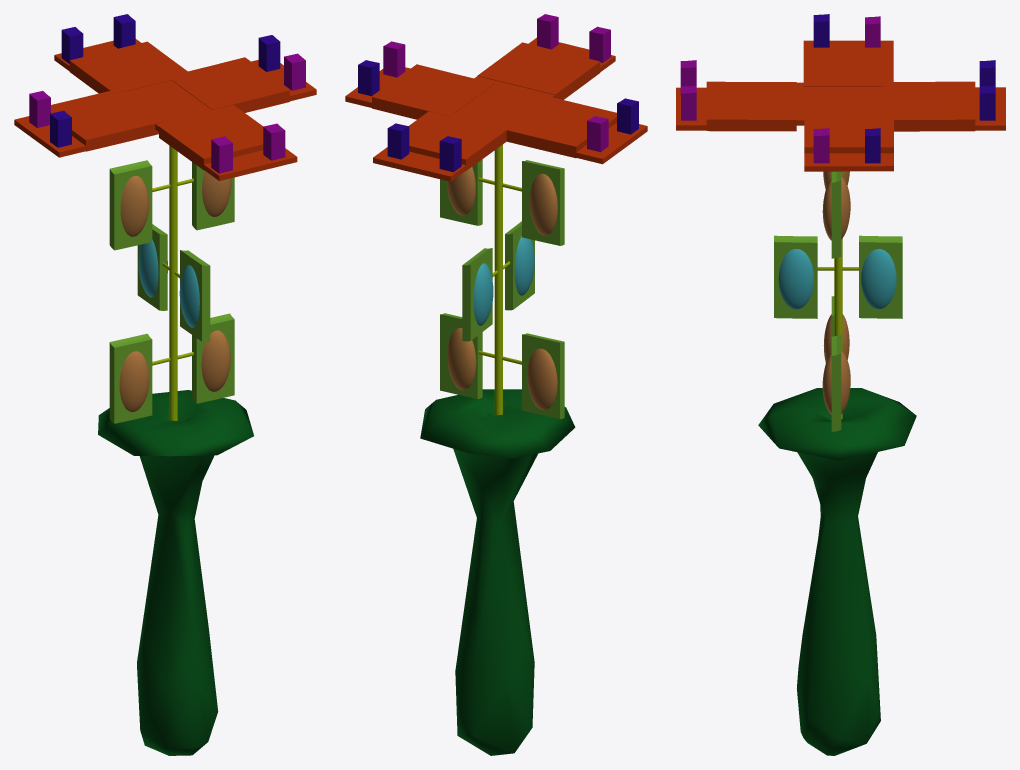
The model's file is Openflower.fbx.
3 views of the same model, side by side, from view 1: azimuth 30°, elevation 25°; view 2: azimuth 150°, elevation 25°; view 3: azimuth 270°, elevation 25° (orthographic).
Visible parts, largest first — view 1: Plantbase1, Flowerpetal3, Flowerpetal2, Flowerpetal4, Flowerpetal1, Stem, Topleaf2, Botleaf2, Botleaf1, Midleaf1, leafInsideorangeBot2, leafInsideorangeBot1 (+14 smaller); view 2: Plantbase1, Flowerpetal3, Flowerpetal4, Flowerpetal1, Flowerpetal2, Stem, Topleaf2, Botleaf2, Botleaf1, Midleaf2, leafInsideorangeBot2, leafInsideorangeTop1 (+14 smaller); view 3: Plantbase1, Flowerpetal2, Flowerpetal1, Flowerpetal4, Flowerpetal3, Midleaf2, Midleaf1, leafInsideblu, leafInsideblue, Botleaf1, Topleaf1, leafInsideorangeBot1 (+8 smaller).
Part boxes in pixels (bbox=[...]): Plantbase1: bbox=[98, 390, 253, 755]; Flowerpetal3: bbox=[14, 91, 189, 157]; Flowerpetal2: bbox=[155, 102, 297, 180]; Flowerpetal4: bbox=[146, 57, 316, 112]; Flowerpetal1: bbox=[54, 39, 187, 102]; Stem: bbox=[169, 145, 177, 420]; Topleaf2: bbox=[109, 160, 152, 250]; Botleaf2: bbox=[109, 333, 152, 423]; Botleaf1: bbox=[192, 313, 234, 403]; Midleaf1: bbox=[180, 250, 210, 341]; leafInsideorangeBot2: bbox=[119, 351, 149, 411]; leafInsideorangeBot1: bbox=[201, 330, 230, 391]; Plantbase1: bbox=[420, 389, 575, 755]; Flowerpetal3: bbox=[495, 89, 647, 164]; Flowerpetal4: bbox=[345, 64, 505, 119]; Flowerpetal1: bbox=[373, 108, 516, 181]; Flowerpetal2: bbox=[474, 37, 615, 99]; Stem: bbox=[494, 144, 502, 415]; Topleaf2: bbox=[522, 160, 564, 245]; Botleaf2: bbox=[522, 333, 564, 418]; Botleaf1: bbox=[440, 313, 482, 398]; Midleaf2: bbox=[462, 248, 492, 341]; leafInsideorangeBot2: bbox=[527, 348, 557, 410]; leafInsideorangeTop1: bbox=[529, 173, 557, 235]; Plantbase1: bbox=[758, 388, 916, 755]; Flowerpetal2: bbox=[676, 81, 826, 131]; Flowerpetal1: bbox=[855, 81, 1005, 131]; Flowerpetal4: bbox=[804, 97, 893, 171]; Flowerpetal3: bbox=[803, 40, 893, 98]; Midleaf2: bbox=[859, 235, 902, 318]; Midleaf1: bbox=[774, 235, 817, 318]; leafInsideblu: bbox=[861, 249, 896, 308]; leafInsideblue: bbox=[778, 249, 813, 309]; Botleaf1: bbox=[831, 334, 841, 431]; Topleaf1: bbox=[831, 171, 841, 258]; leafInsideorangeBot1: bbox=[822, 351, 850, 414].
Bounding box in the file's own units: 6.79 × 16.97 × 7.53.
